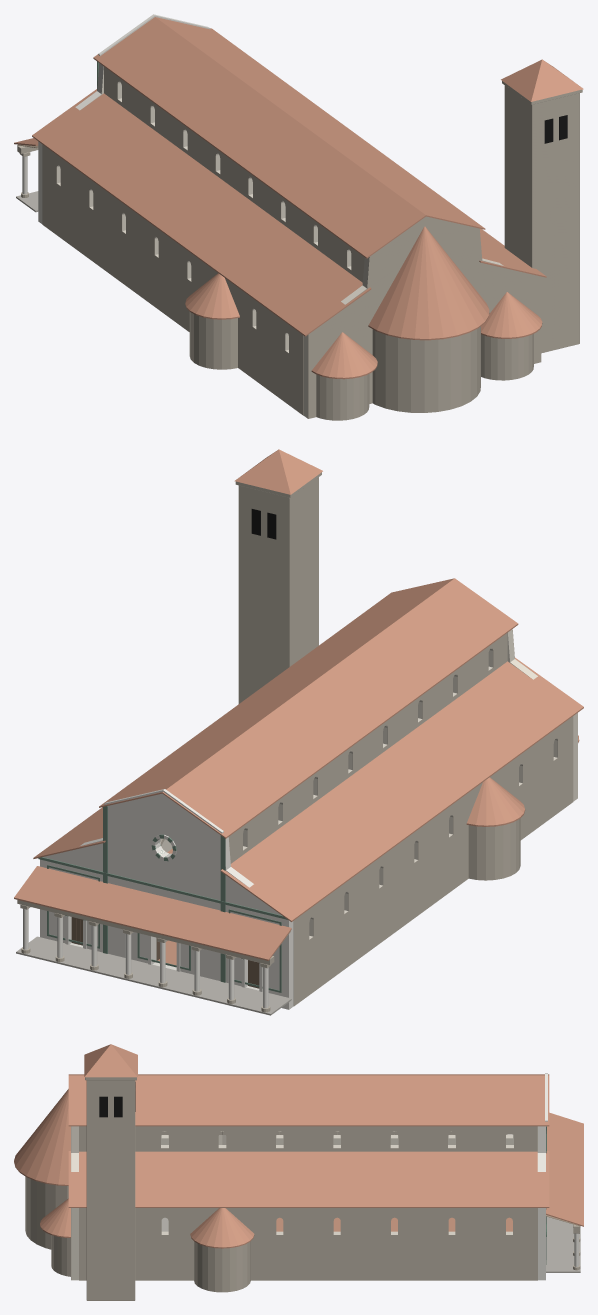
The model's file is santa_reparata.glb.
3 renders of one model, top to bottom at view 1: azimuth 30°, elevation 25°; view 2: azimuth 150°, elevation 25°; view 3: azimuth 270°, elevation 25°, orthographic. The views are drawn at different scales.
Visible parts, largest first — view 1: santa_reparata; view 2: santa_reparata; view 3: santa_reparata.
Part boxes in pixels (left/top/right/bottom): santa_reparata: left=14, top=14, right=583, bottom=420; santa_reparata: left=14, top=449, right=583, bottom=1015; santa_reparata: left=14, top=1044, right=583, bottom=1300.
Bounding box in the file's own units: 36.94 × 31.4 × 65.8.
